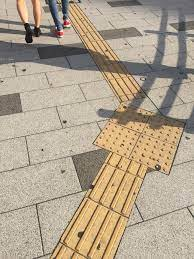guide_blocks: (57, 176, 147, 259), (98, 106, 185, 173), (99, 61, 145, 100), (73, 18, 112, 55)
